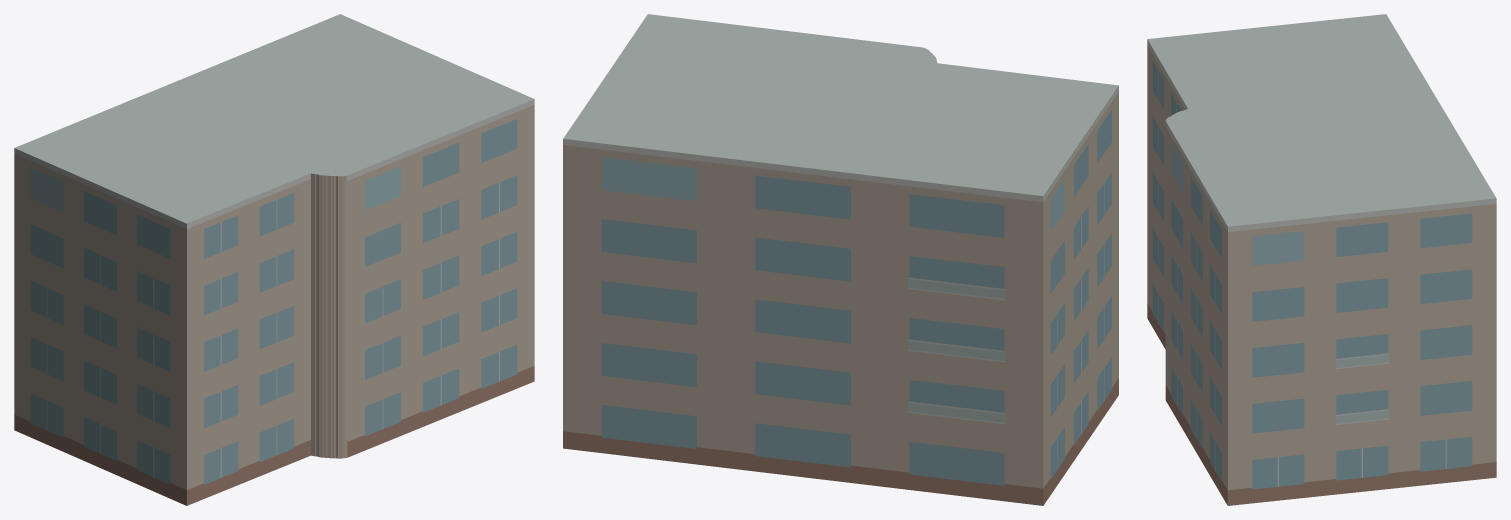
The model's file is survey-upis-32925917.glb.
3 renders of one model, left to right at view 1: azimuth 30°, elevation 25°; view 2: azimuth 150°, elevation 25°; view 3: azimuth 270°, elevation 25°, orthographic. The views are drawn at different scales.
Parts seen in each view (by area): view 1: survey-upis-32925917.tmp; view 2: survey-upis-32925917.tmp; view 3: survey-upis-32925917.tmp.
Boxes of the visible parts, <box> form: survey-upis-32925917.tmp: <box>14,14,534,505</box>; survey-upis-32925917.tmp: <box>563,14,1118,505</box>; survey-upis-32925917.tmp: <box>1147,14,1496,505</box>.
Bounding box in the file's own units: 20.1 × 12.3 × 13.95.
